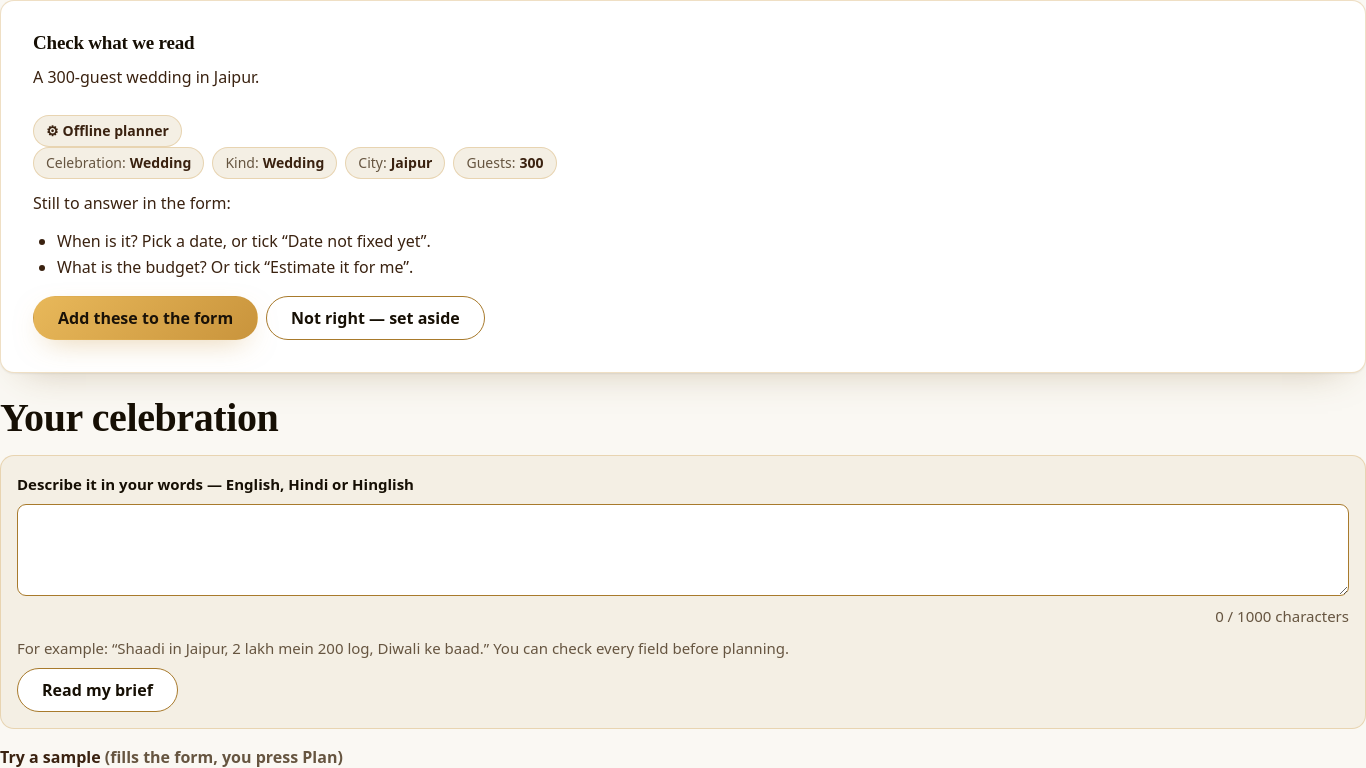
Test: BriefReview › returns focus to the brief text after setting the read aside
Click the button "Not right — set aside": click(375, 318) [266,296,485,340]
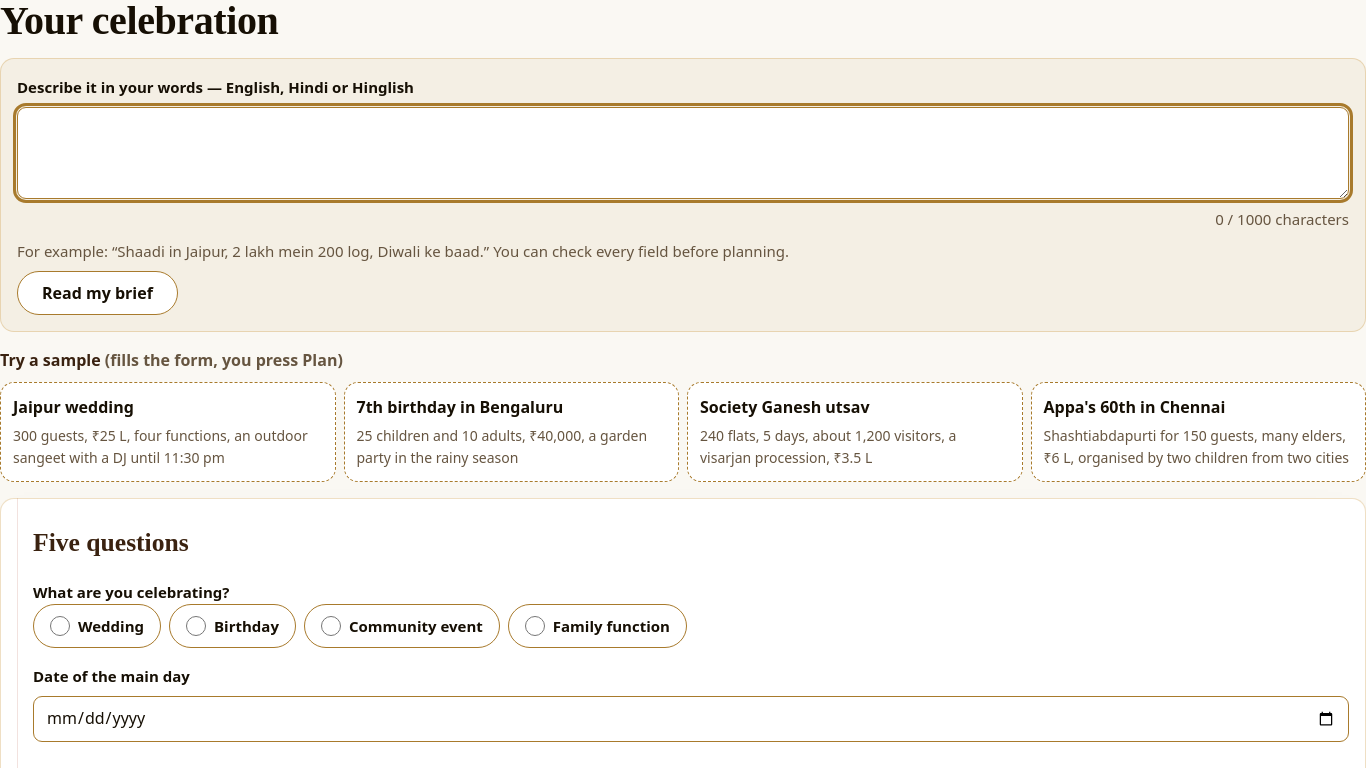
Result: the heading "Check what we read" is gone
